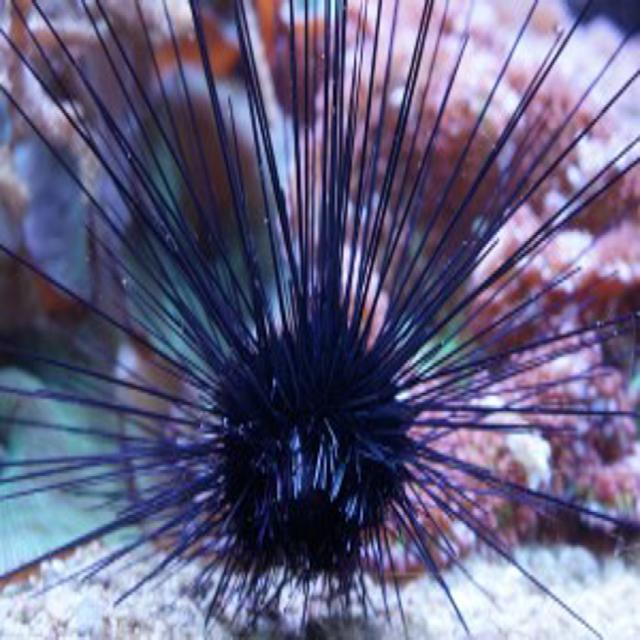Urchin: (2, 1, 637, 628)
